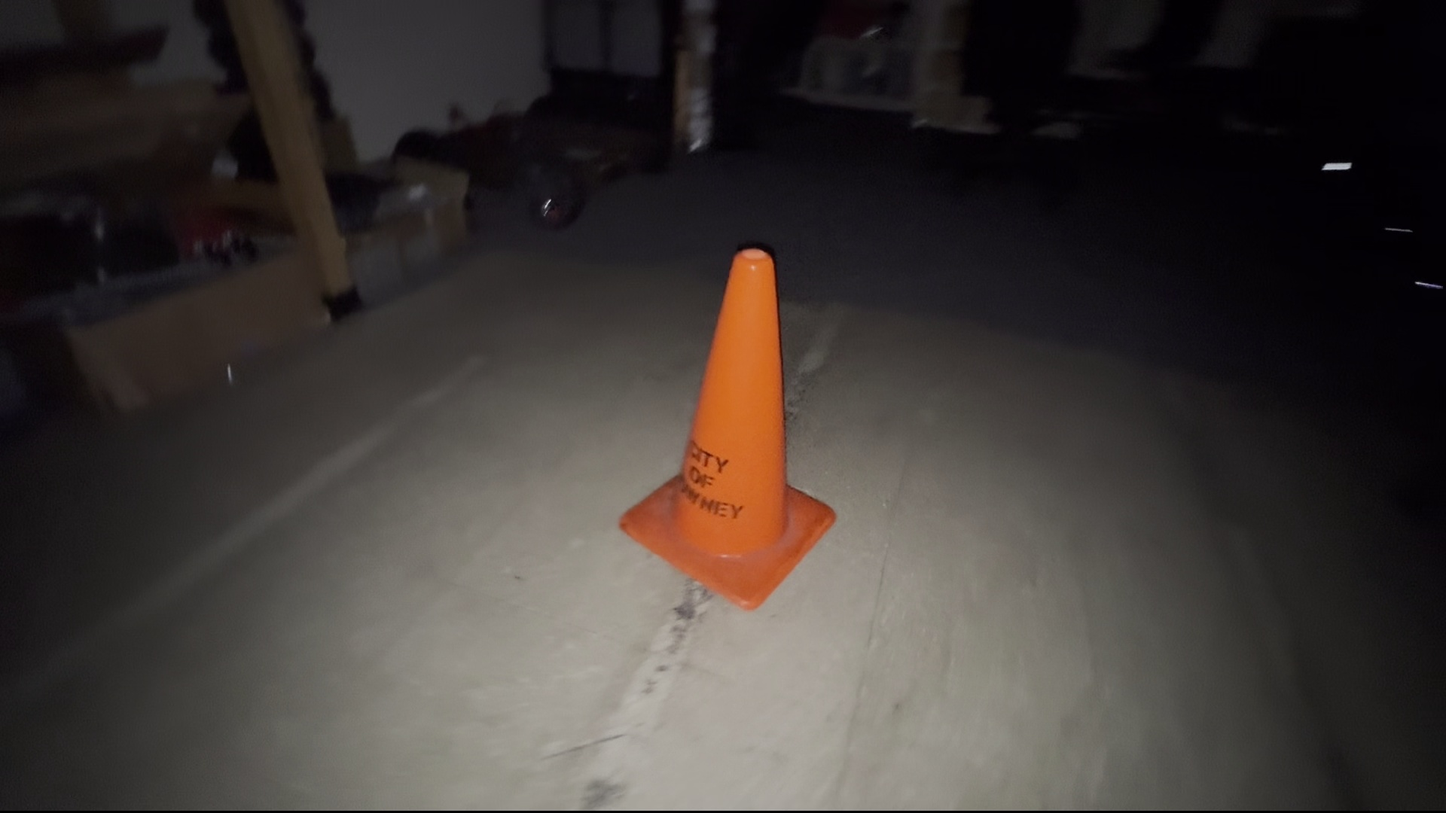traffic_cone: (618, 244, 837, 612)
